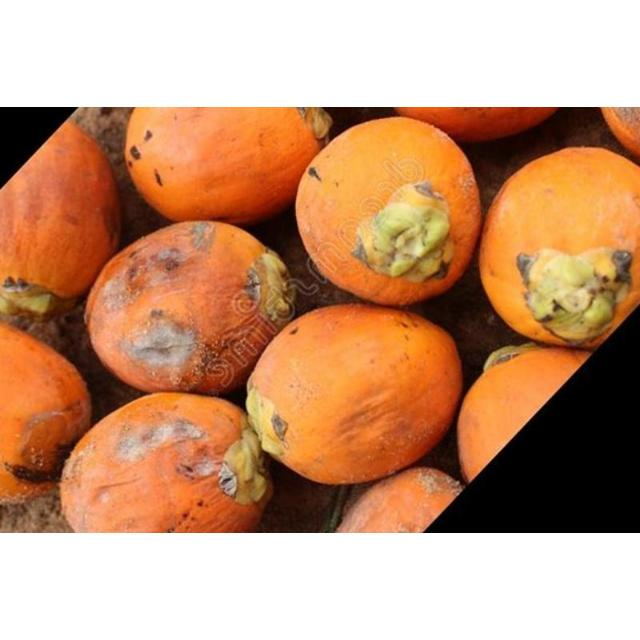good: (82, 221, 329, 406), (237, 303, 466, 488), (294, 117, 484, 309), (477, 147, 639, 353), (57, 394, 273, 533), (118, 107, 326, 242), (0, 119, 129, 305), (457, 346, 594, 485), (334, 464, 466, 533)
